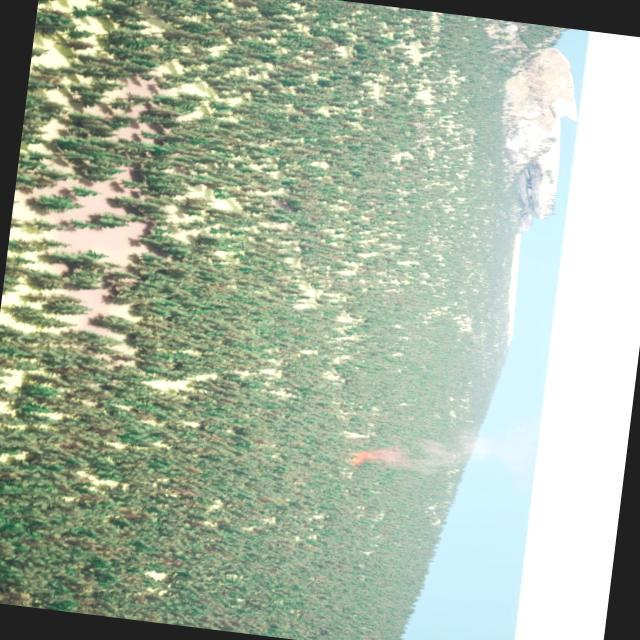fire: (348, 449, 374, 468)
smoke: (371, 408, 541, 488)
